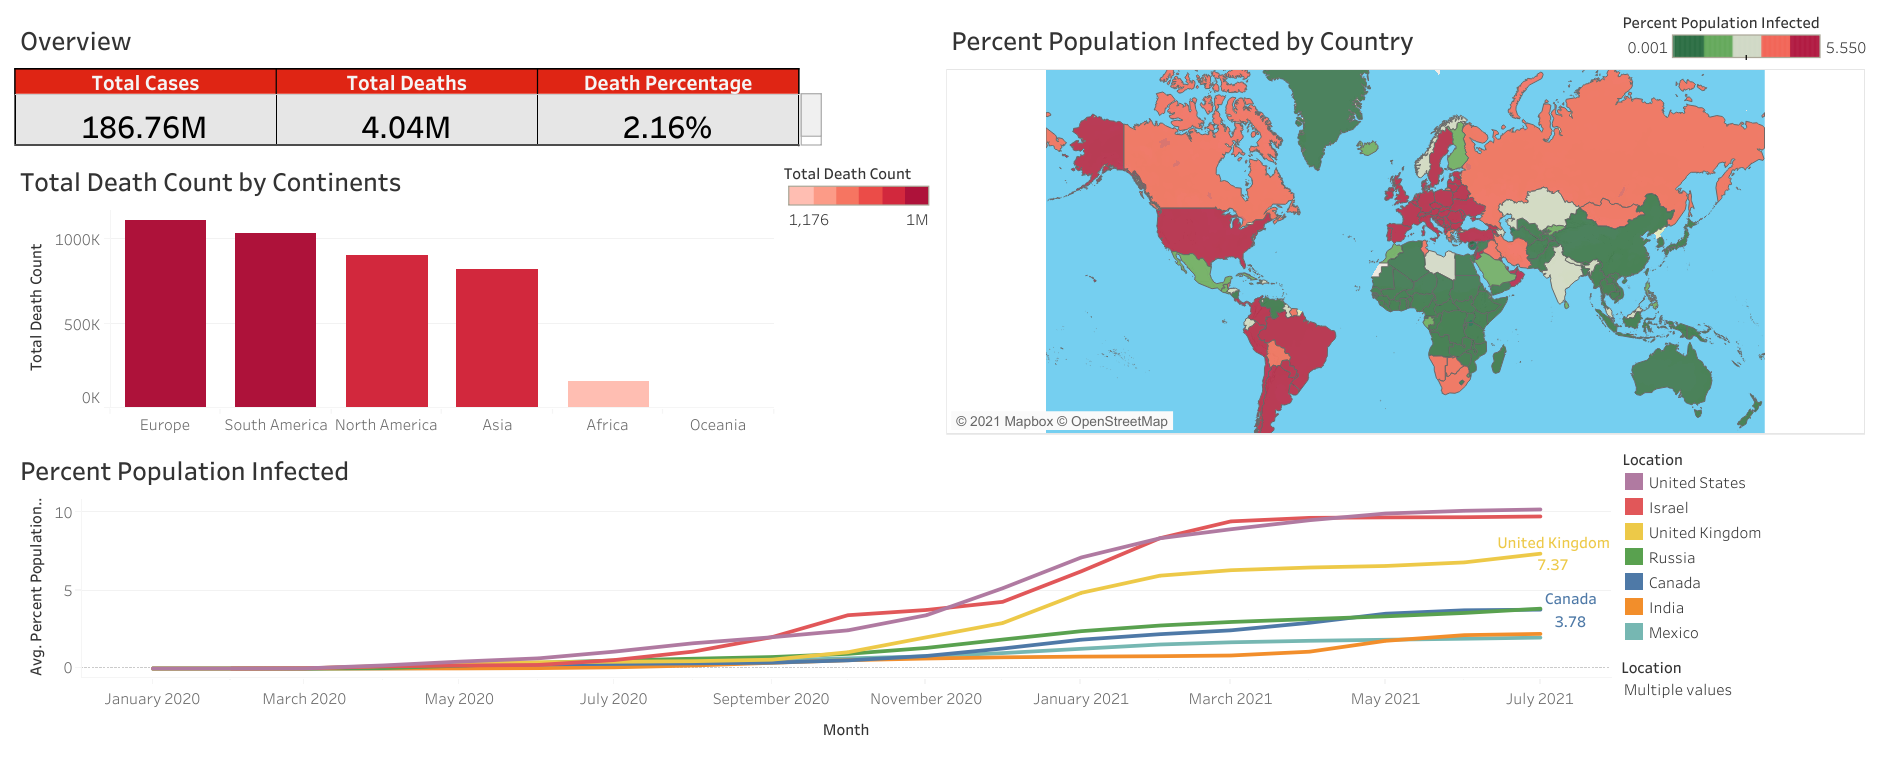

This screenshot's page, from the dashboard's own definition file:
{"tool":"tableau","page":{"name":"Final Dashboard","canvas":[1000,1000],"units":"permille","ordinal":0},"visuals":[{"type":"legend","title":"Percent Pop. Infected by Country","param":"[federated.19oolxc054x36m10vnl1e0dnxvvf].[sum:PercentPopulationInfected:qk]","box":[862.7,7,132.9,74.3]},{"type":"worksheet","title":"Overview","mark":"Automatic","box":[5,9.3,495.1,185.8]},{"type":"worksheet","title":"Percent Pop. Infected by Country","mark":"Automatic","box":[500,9.3,495.1,568]},{"type":"worksheet","title":"Total Death Count by Continent","mark":"Bar","rows":["TotalDeathCount"],"cols":["location"],"box":[5,195.1,409.3,382.1]},{"type":"legend","title":"Total Death Count by Continent","param":"[federated.1tmd0aa0gkahdh1eecoxv1163hai].[sum:TotalDeathCount:qk]","box":[414.2,195.1,85.8,382.1]},{"type":"worksheet","title":"Percent Pop. Infected","mark":"Automatic","rows":["PercentPopulationInfected"],"cols":["date"],"box":[5,577.2,863.9,413.5]},{"type":"legend","title":"Percent Pop. Infected","param":"[federated.1o3hrzm1bz78ot125hptl1yqh8aw].[none:location:nk]","box":[868.8,577.2,126.2,205.6]},{"type":"filter","title":"Percent Pop. Infected","param":"[federated.1o3hrzm1bz78ot125hptl1yqh8aw].[none:location:nk]","box":[868.8,782.8,126.2,70.9]}]}

Visuals, with their boxes on the dashboard's canvas, which has no fixed pixel size, in thousandths of its width and height (x1, y1, x2, y2). These are canvas units, not pixel positions in the 1880x763 screenshot, which may show the page scaled, cropped or inside an application window:
"Percent Pop. Infected by Country" legend: Rect(863, 7, 996, 81)
"Overview" worksheet: Rect(5, 9, 500, 195)
"Percent Pop. Infected by Country" worksheet: Rect(500, 9, 995, 577)
"Total Death Count by Continent" worksheet (Bar marks): Rect(5, 195, 414, 577)
"Total Death Count by Continent" legend: Rect(414, 195, 500, 577)
"Percent Pop. Infected" worksheet: Rect(5, 577, 869, 991)
"Percent Pop. Infected" legend: Rect(869, 577, 995, 783)
"Percent Pop. Infected" filter: Rect(869, 783, 995, 854)
